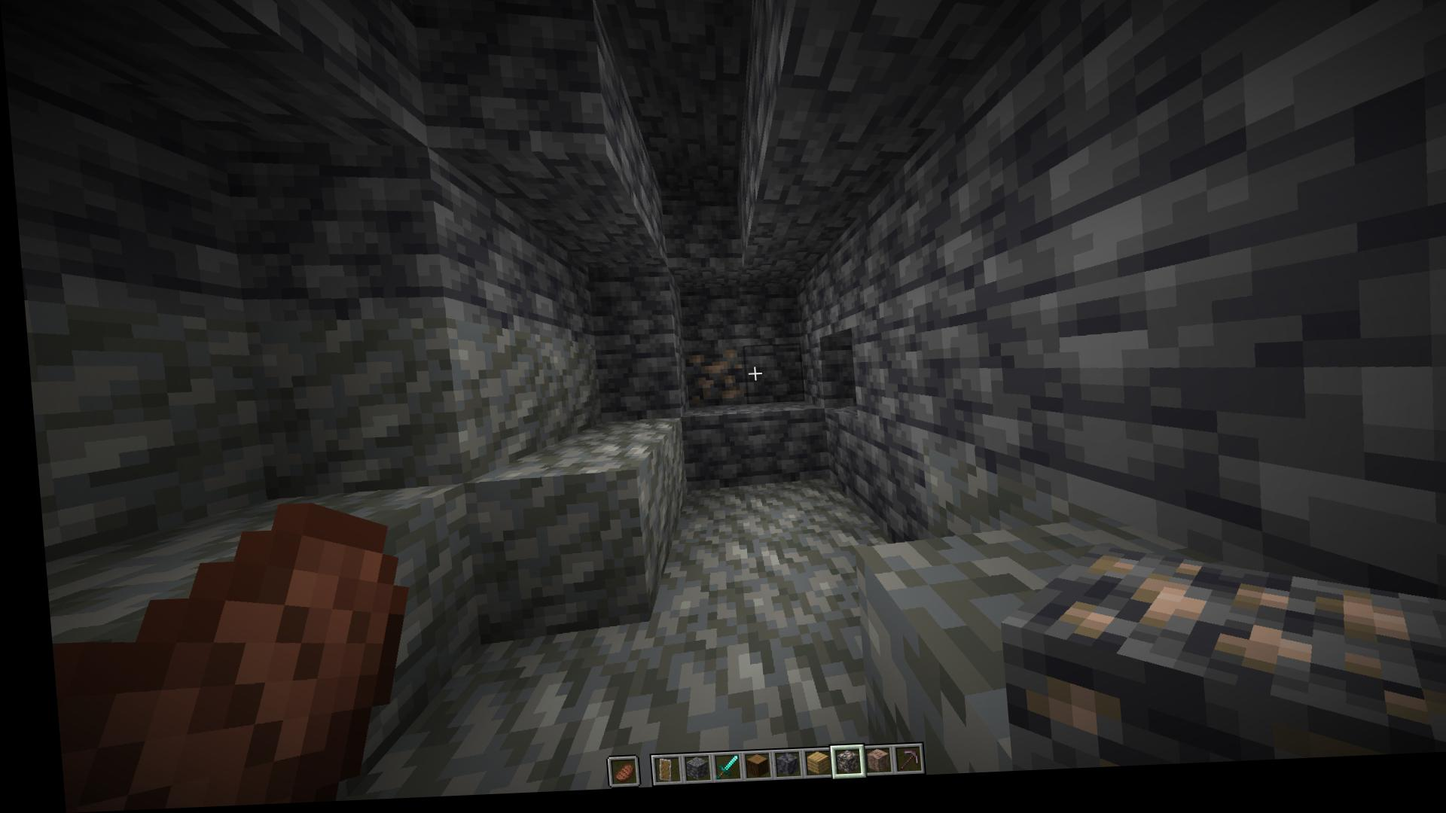iron ore: (677, 352, 740, 414)
